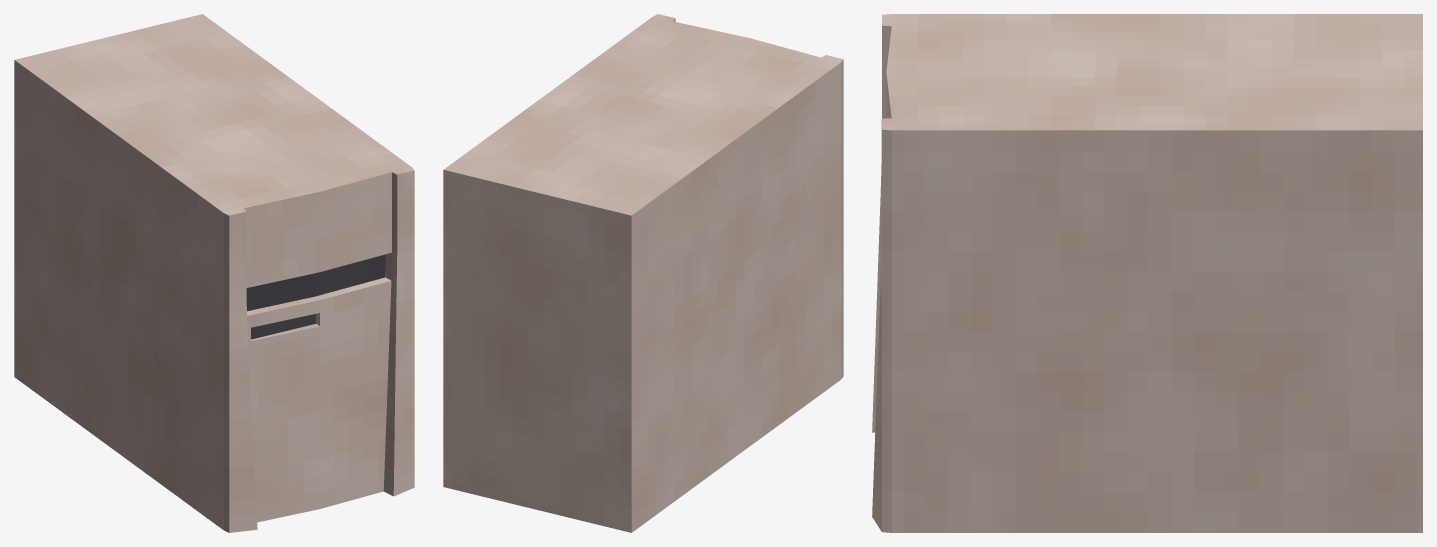
Rendered from old_pc.fbx.
The picture shows the model from 3 angles, left to right: view 1: azimuth 30°, elevation 25°; view 2: azimuth 150°, elevation 25°; view 3: azimuth 270°, elevation 25°; orthographic projection. The views are drawn at different scales.
Visible parts, largest first — view 1: old computer; view 2: old computer; view 3: old computer.
Boxes of the visible parts, x1,y1,x2,y2 form: old computer: (14,14,414,532); old computer: (443,14,843,532); old computer: (872,14,1422,532).
Bounding box in the file's own units: 33.14 × 53.4 × 66.22.
1 material, 1 textured.
